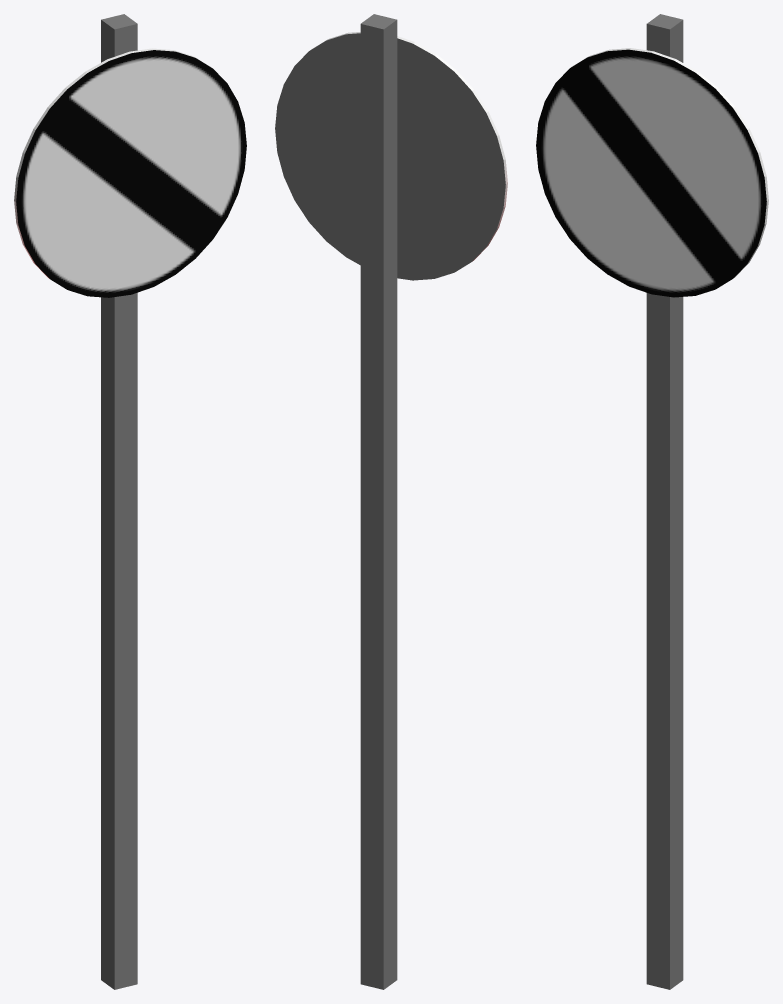
The model's file is EndInterdiction.obj.
The picture shows the model from 3 angles, left to right: view 1: azimuth 30°, elevation 25°; view 2: azimuth 150°, elevation 25°; view 3: azimuth 330°, elevation 25°; orthographic projection.
Parts seen in each view (by area): view 1: Sign_EndInterdiction; view 2: Sign_EndInterdiction; view 3: Sign_EndInterdiction.
Boxes of the visible parts, x1,y1,x2,y2 form: Sign_EndInterdiction: [14, 14, 246, 989]; Sign_EndInterdiction: [275, 14, 507, 989]; Sign_EndInterdiction: [536, 14, 768, 989].
Bounding box in the file's own units: 1.12 × 4.44 × 0.1642.
Materials: 1 (1 with a texture image).
